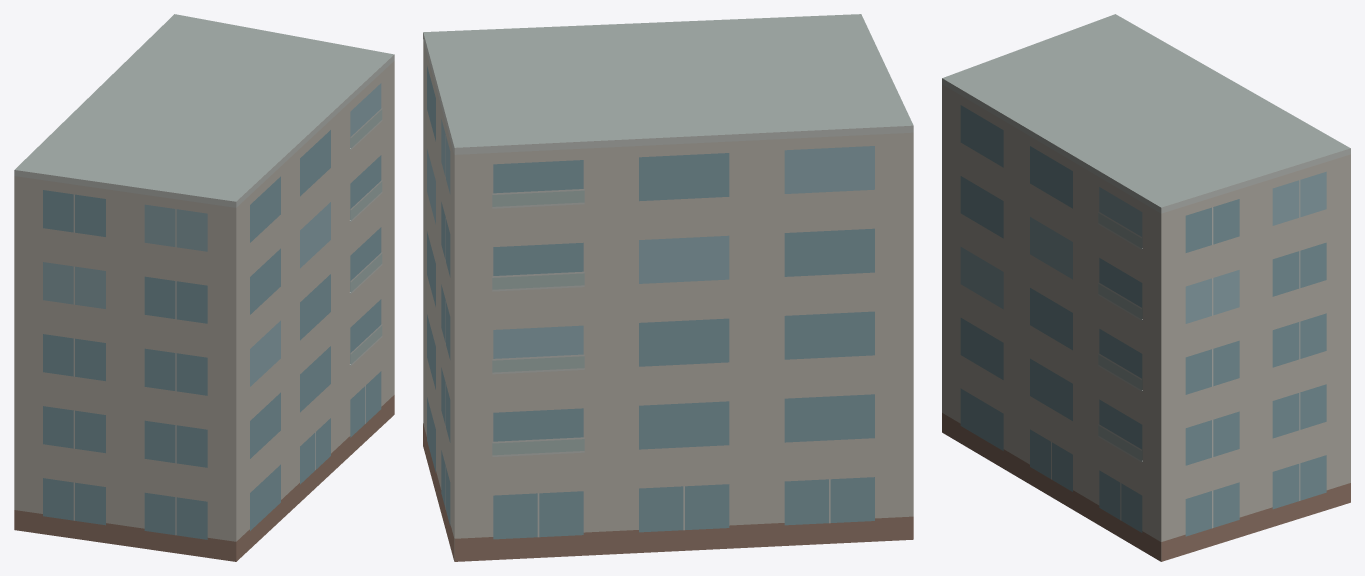
The model's file is survey-upis-32639254.glb.
3 renders of one model, left to right at view 1: azimuth 30°, elevation 25°; view 2: azimuth 150°, elevation 25°; view 3: azimuth 270°, elevation 25°, orthographic. The views are drawn at different scales.
Visible parts, largest first — view 1: survey-upis-32639254.tmp; view 2: survey-upis-32639254.tmp; view 3: survey-upis-32639254.tmp.
Boxes of the visible parts, x1,y1,x2,y2 form: survey-upis-32639254.tmp: [14, 14, 394, 561]; survey-upis-32639254.tmp: [423, 14, 913, 561]; survey-upis-32639254.tmp: [942, 14, 1350, 561].
Size of the model in its own units: 16.84 by 14.36 by 15.02.
